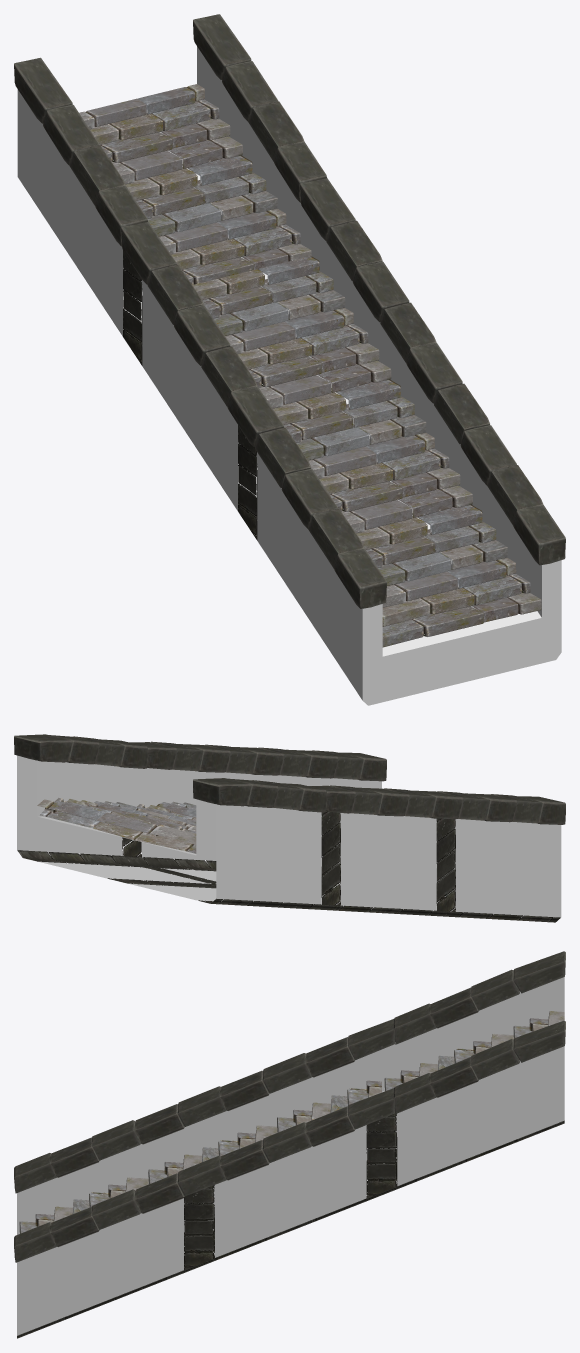
The picture shows the model from 3 angles, top to bottom: view 1: azimuth 30°, elevation 25°; view 2: azimuth 150°, elevation 25°; view 3: azimuth 270°, elevation 25°; orthographic projection. The views are drawn at different scales.
Parts seen in each view (by area): view 1: SM_Dowdun_Walkway_Steps_4m_03_LOD0; view 2: SM_Dowdun_Walkway_Steps_4m_03_LOD0; view 3: SM_Dowdun_Walkway_Steps_4m_03_LOD0.
Boxes of the visible parts, bbox=[...] form: SM_Dowdun_Walkway_Steps_4m_03_LOD0: bbox=[14, 14, 565, 705]; SM_Dowdun_Walkway_Steps_4m_03_LOD0: bbox=[14, 734, 565, 922]; SM_Dowdun_Walkway_Steps_4m_03_LOD0: bbox=[14, 951, 565, 1338].
Size of the model in its own units: 5.22 by 9.42 by 15.12.
Materials: 4 (3 with a texture image).
